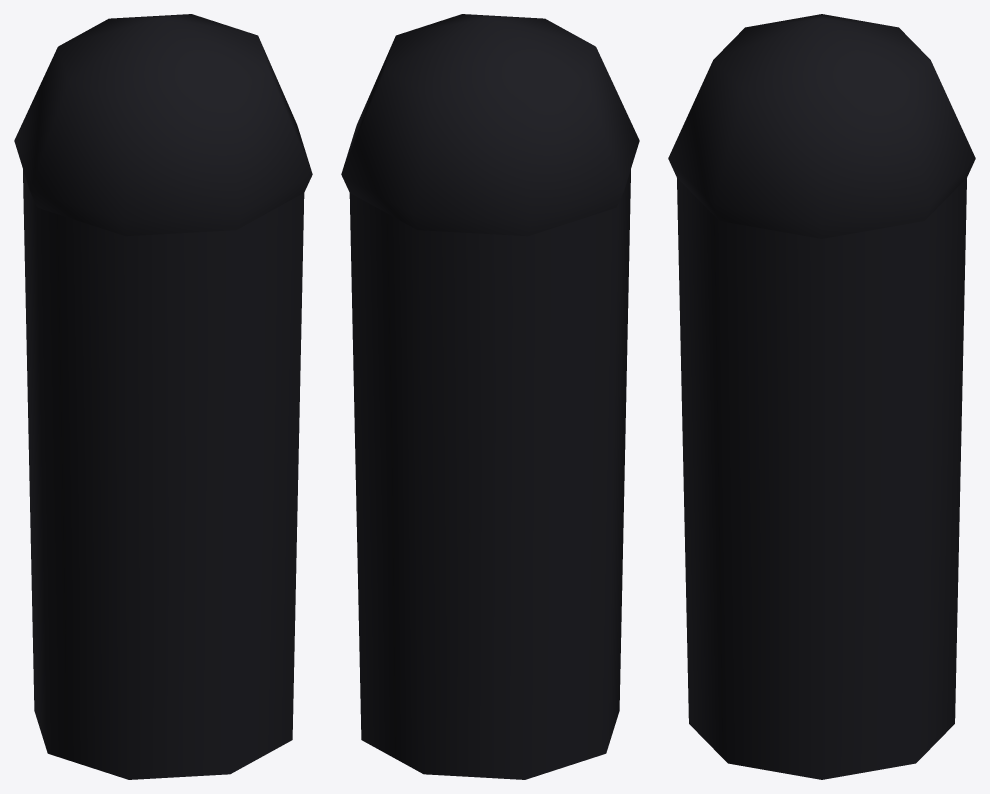
The model's file is PVeladora_Brazo.obj.
3 renders of one model, left to right at view 1: azimuth 30°, elevation 25°; view 2: azimuth 150°, elevation 25°; view 3: azimuth 270°, elevation 25°, orthographic.
Parts seen in each view (by area): view 1: Brazo; view 2: Brazo; view 3: Brazo.
Part boxes in pixels (x1,y1,x2,y2): Brazo: (14,14,312,779); Brazo: (341,14,639,779); Brazo: (668,14,975,779).
Size of the model in its own units: 0.074 by 0.187 by 0.074.
1 material, 1 textured.
